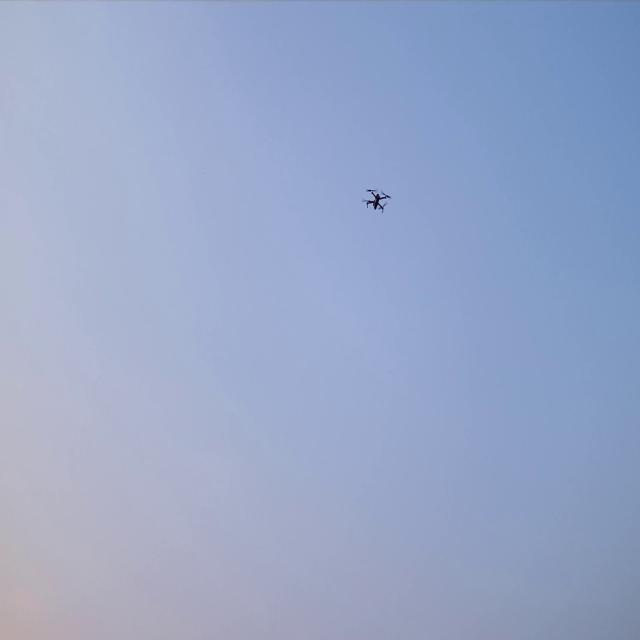UAV: (361, 186, 394, 213)
